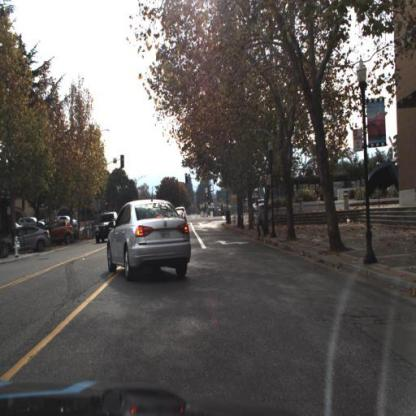car: (103, 193, 197, 284), (13, 221, 54, 258), (44, 217, 76, 249), (96, 211, 120, 247), (52, 223, 72, 244)
pedestrian: (252, 197, 269, 241)
trafficLight-Red: (184, 171, 190, 186), (185, 174, 189, 186)
